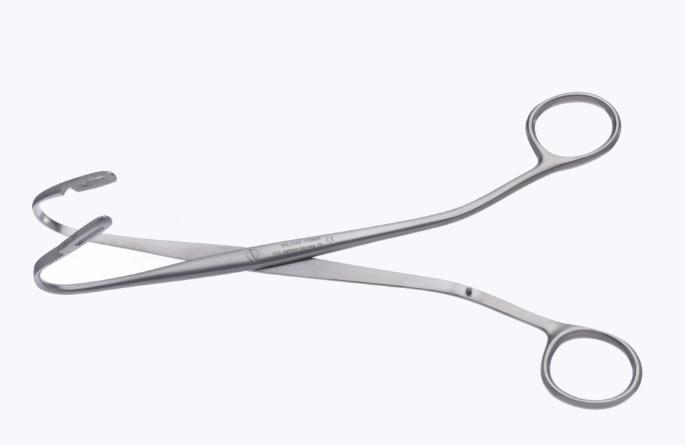Randall Forceps: (29, 85, 663, 423)
